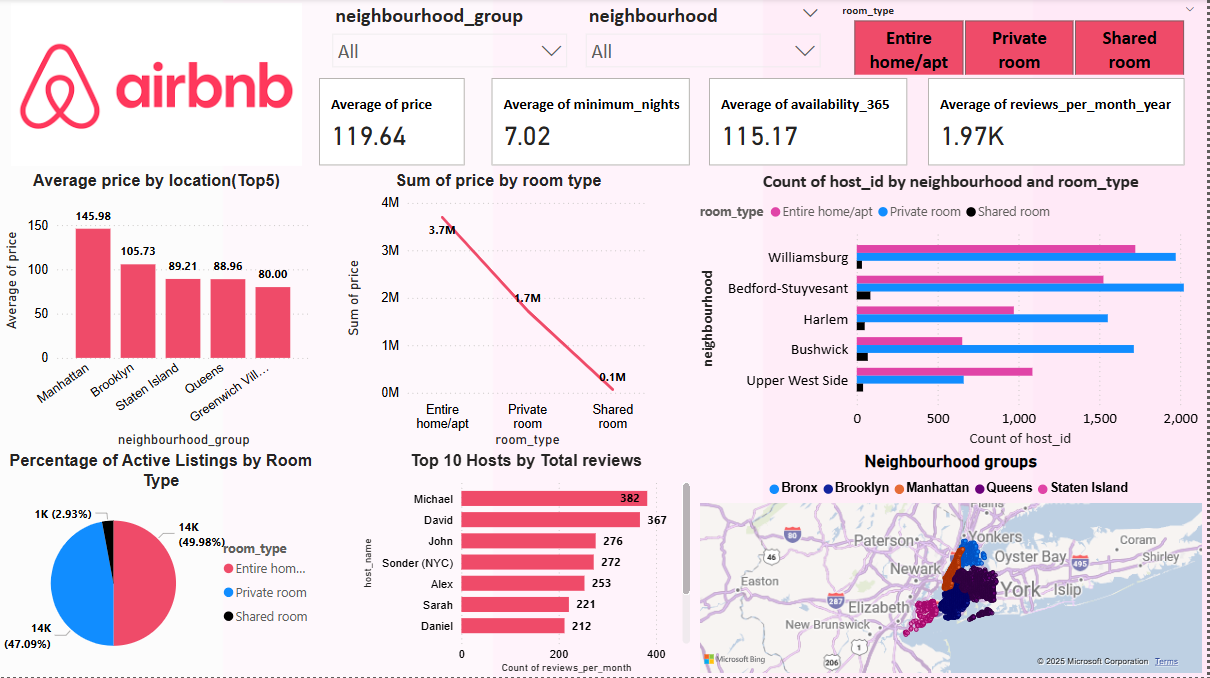

The dashboard page shown, as its layout file describes it:
{"tool":"powerbi","page":{"name":"Analysis","canvas":[1280,720],"ordinal":0},"visuals":[{"type":"columnChart","title":"Average price by location(Top5)","fields":{"Y":["final F.price"],"Category":["final F.neighbourhood_group"]},"box":[0,182.9,334,297.4],"z":0},{"type":"map","title":"Neighbourhood groups","fields":{"X":["final F.longitude"],"Y":["final F.latitude"],"Series":["final F.neighbourhood_group"]},"box":[738,480.4,542.4,240.2],"z":1000},{"type":"image","box":[0,0,334,182.9],"z":2000},{"type":"slicer","fields":{"Values":["final F.neighbourhood_group"]},"box":[343.6,0,268.8,79.5],"z":3000},{"type":"slicer","fields":{"Values":["final F.neighbourhood"]},"box":[612.4,0,268.8,79.5],"z":4000},{"type":"slicer","fields":{"Values":["final F.room_type"]},"box":[881.2,0,399.2,81.1],"z":5000},{"type":"cardVisual","fields":{"Data":["final F.price"]},"box":[334,79.5,165.4,103.4],"z":6000},{"type":"cardVisual","fields":{"Data":["final F.minimum_nights"]},"box":[516.9,79.5,221.1,103.4],"z":7000},{"type":"cardVisual","fields":{"Data":["final F.availability_365"]},"box":[747.6,79.5,221.1,103.4],"z":8000},{"type":"cardVisual","fields":{"Data":["final F.reviews_per_month_year"]},"box":[979.8,79.5,283.1,103.4],"z":9000},{"type":"lineChart","title":"Sum of price by room type","fields":{"Y":["final F.price"],"Category":["final F.room_type"]},"box":[362.7,182.9,334,297.4],"z":10000},{"type":"pieChart","title":"Percentage of Active Listings by Room Type","fields":{"Category":["final F.room_type"],"Y":["final F.Active Listings"]},"box":[0,480.4,343.6,240.2],"z":11000},{"type":"barChart","title":"Top 10 Hosts by Total reviews","fields":{"Category":["final F.host_name"],"Y":["final F.reviews_per_month"]},"box":[380.2,480.4,357.9,240.2],"z":12000},{"type":"clusteredBarChart","fields":{"Category":["final F.neighbourhood"],"Series":["final F.room_type"],"Y":["final F.host_id"]},"box":[738,182.9,542.4,297.4],"z":13000}]}

Visuals, with their boxes in screenshot pixels (x1, y1, x2, y2), scaled from the page's 1280x720 canvas onto the 1210x678 screenshot:
"Average price by location(Top5)" columnChart: Rect(0, 172, 316, 452)
"Neighbourhood groups" map: Rect(698, 452, 1209, 677)
image: Rect(0, 0, 316, 172)
slicer - final F.neighbourhood_group: Rect(325, 0, 579, 75)
slicer - final F.neighbourhood: Rect(579, 0, 833, 75)
slicer - final F.room_type: Rect(833, 0, 1209, 76)
cardVisual - final F.price: Rect(316, 75, 472, 172)
cardVisual - final F.minimum_nights: Rect(489, 75, 698, 172)
cardVisual - final F.availability_365: Rect(707, 75, 916, 172)
cardVisual - final F.reviews_per_month_year: Rect(926, 75, 1194, 172)
"Sum of price by room type" lineChart: Rect(343, 172, 659, 452)
"Percentage of Active Listings by Room Type" pieChart: Rect(0, 452, 325, 677)
"Top 10 Hosts by Total reviews" barChart: Rect(359, 452, 698, 677)
clusteredBarChart - final F.neighbourhood x final F.room_type: Rect(698, 172, 1209, 452)
